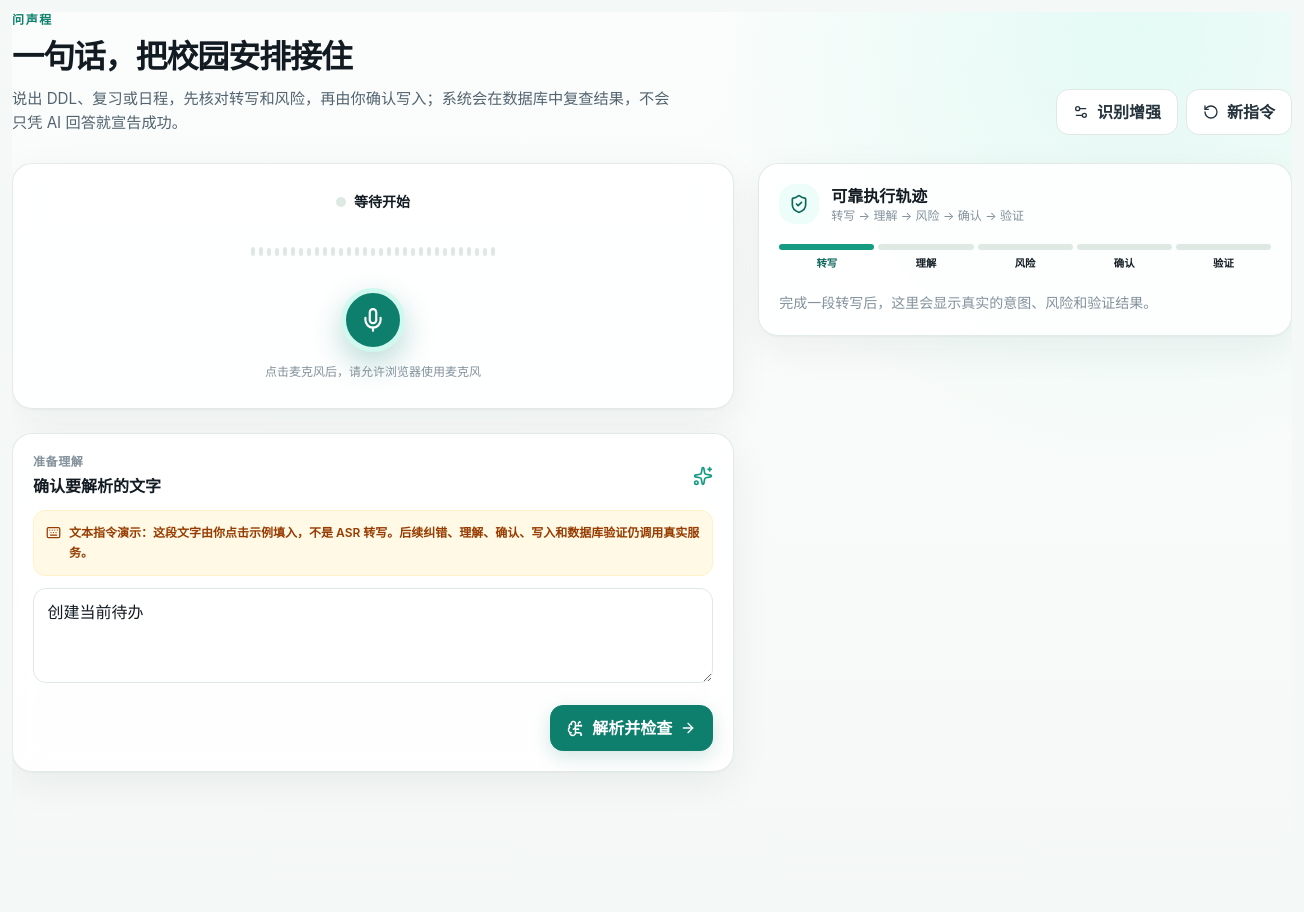
Test: VoicePage ASR lineage › retries a resolved retryable execute result with the same pending id
Click the button "解析并检查" at [632, 728], box [550,705,713,751]
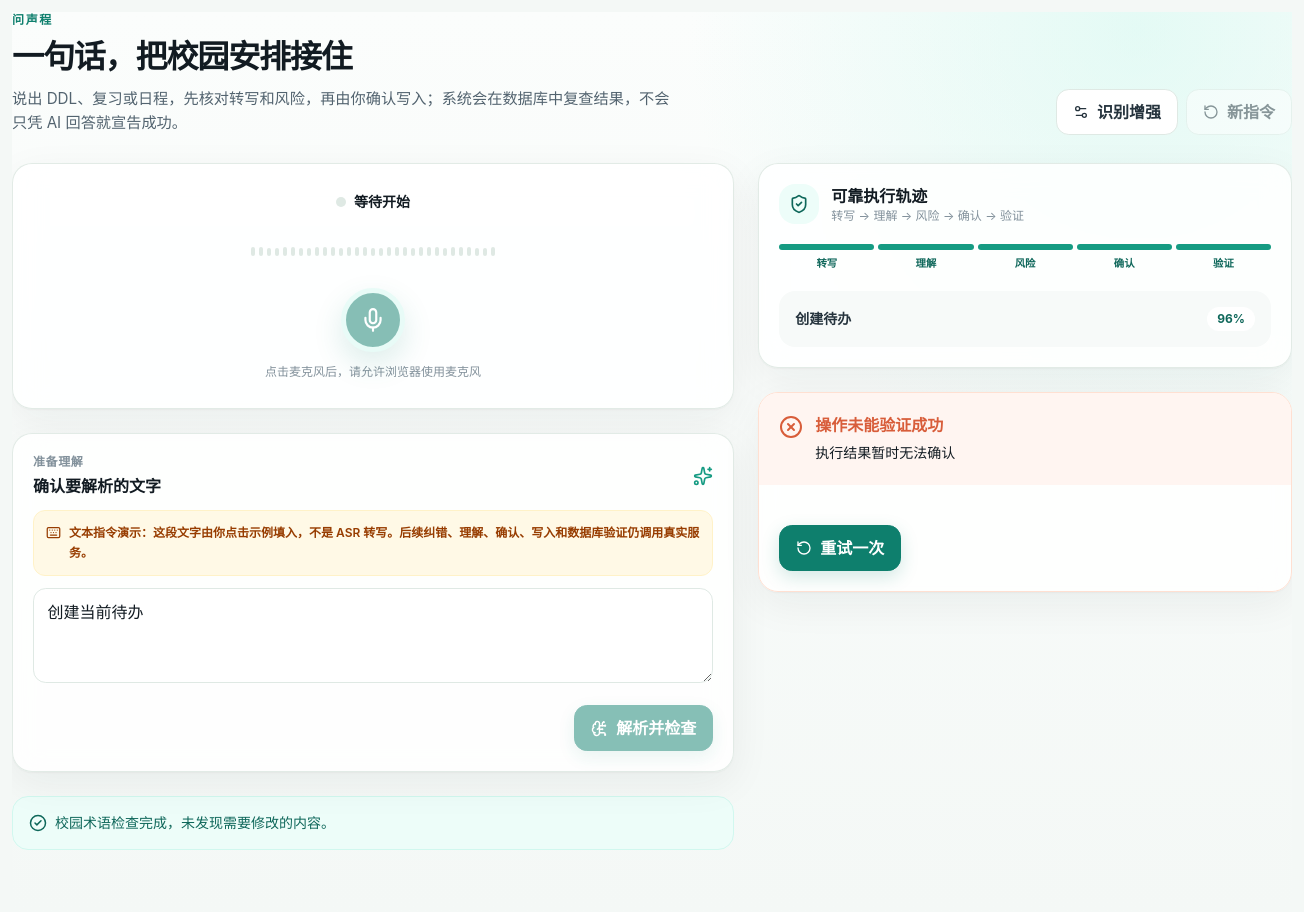
Result: the text "执行结果暂时无法确认" is shown at [815,441,955,465]
Result: the number of buttons "重试一次" is 1
Click the button "重试一次" at [840, 548], box [779,525,901,571]
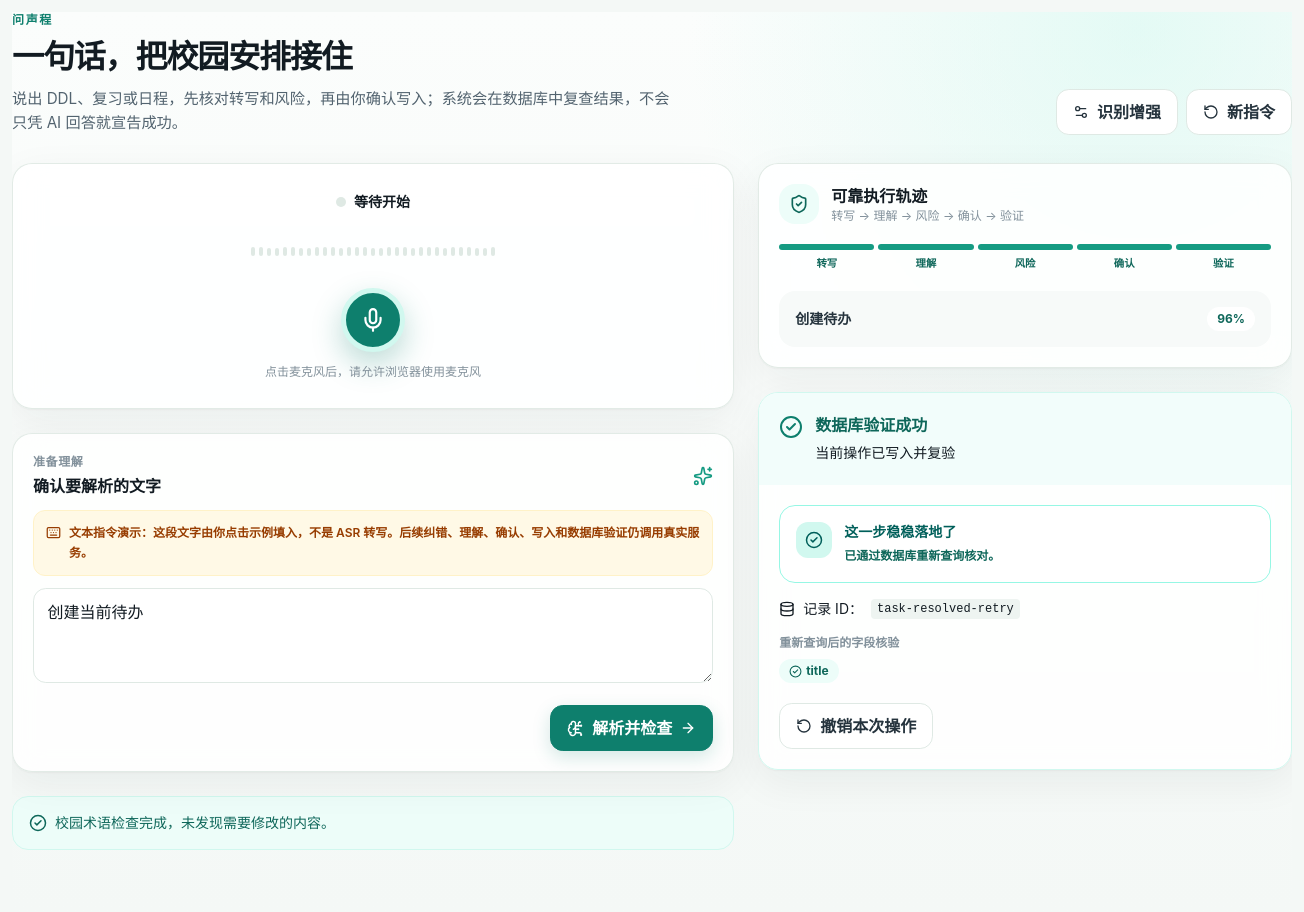
Result: the text "当前操作已写入并复验" is shown at [815,441,955,465]
